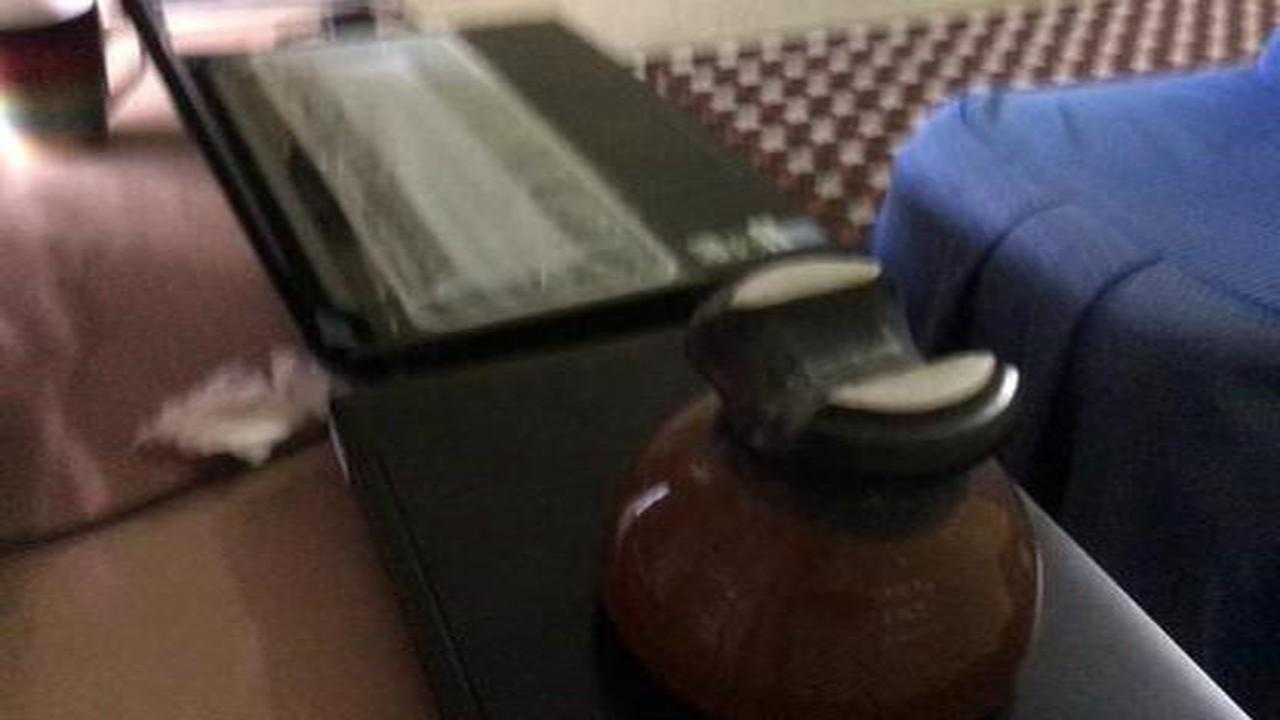insulator_pin: (579, 245, 1059, 717)
